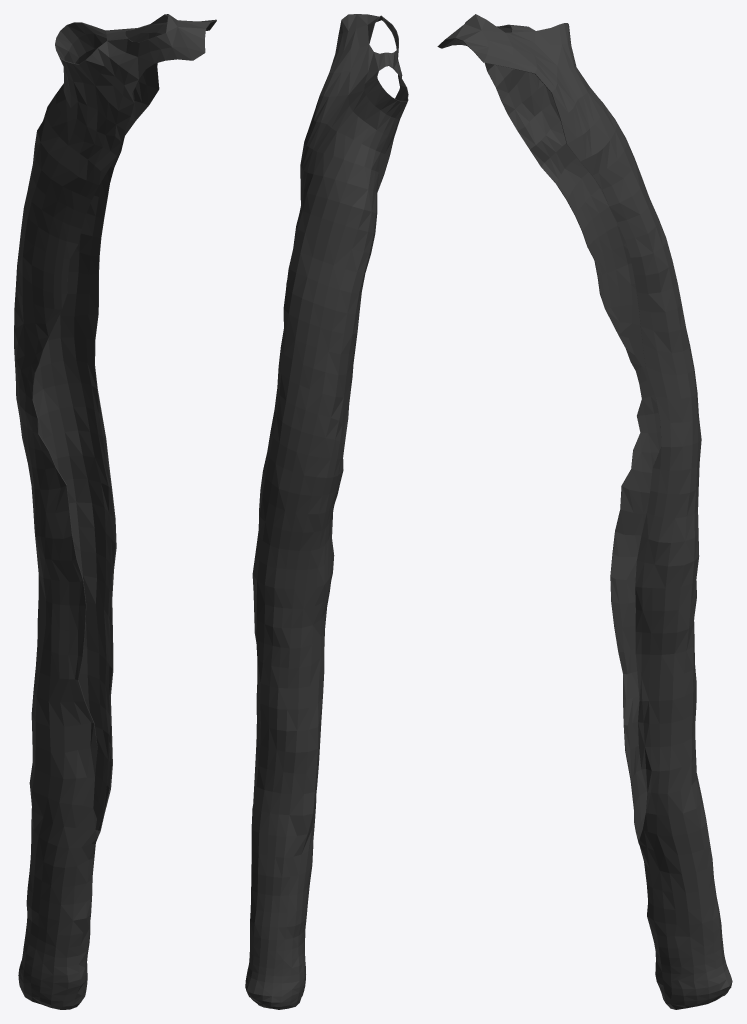
Rendered from Pipes_aorta.glb.
3 views of the same model, side by side, from view 1: azimuth 30°, elevation 25°; view 2: azimuth 150°, elevation 25°; view 3: azimuth 270°, elevation 25° (orthographic). The views are drawn at different scales.
Parts seen in each view (by area): view 1: Pipes_aorta; view 2: Pipes_aorta; view 3: Pipes_aorta.
Part boxes in pixels (left/top/right/bottom): Pipes_aorta: left=14, top=14, right=216, bottom=1009; Pipes_aorta: left=245, top=14, right=408, bottom=1009; Pipes_aorta: left=437, top=14, right=732, bottom=1009.
Size of the model in its own units: 0.123 by 1.08 by 0.2933.
1 material, 1 textured.
